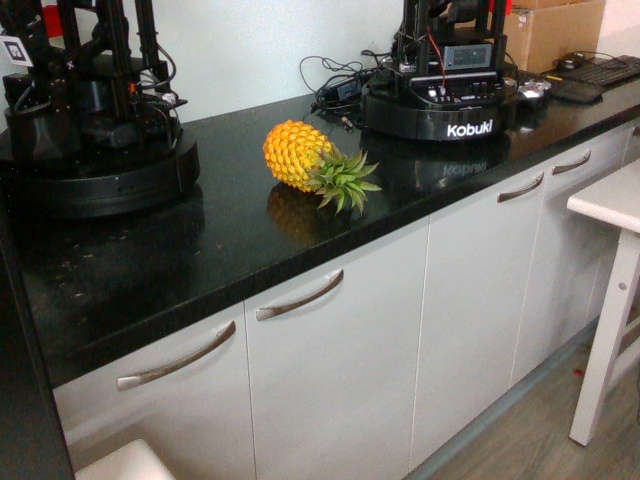pineapple: (259, 117, 384, 217)
